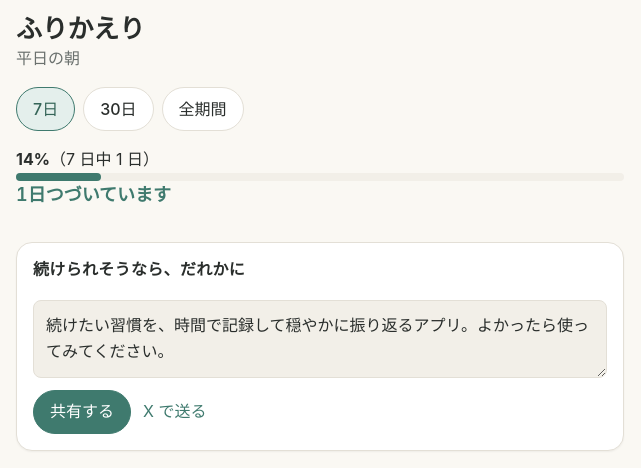
SummaryPage (UC6) › SM-S5: 全期間ボタンで最古の達成日からの遂行率を出す
Expected: the element named "継続率" shows "7 日中 1 日", [16,147,624,181]
Click the button "全期間" at [202, 109], box [162,87,244,131]
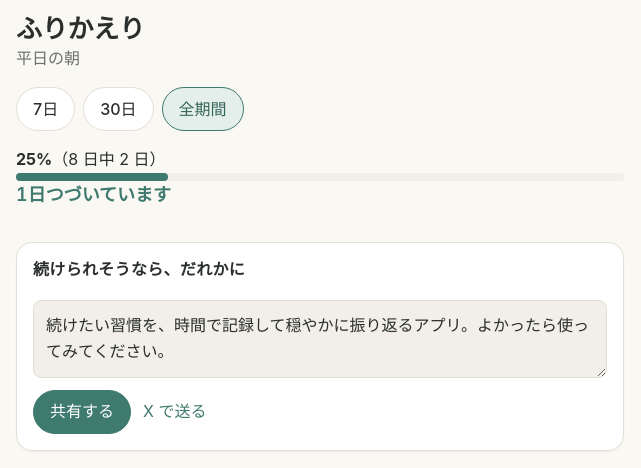
Result: the element named "継続率" shows "8 日中 2 日" at [16,147,624,181]
